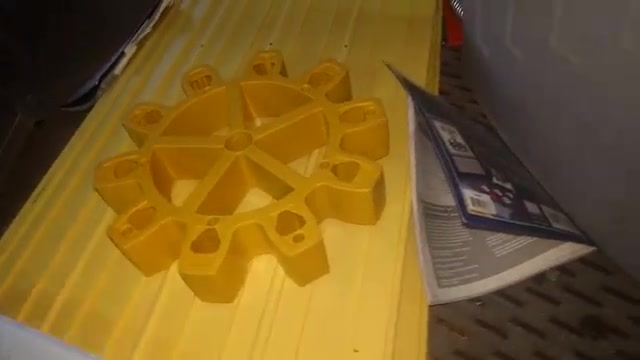gear: (88, 53, 399, 308)
